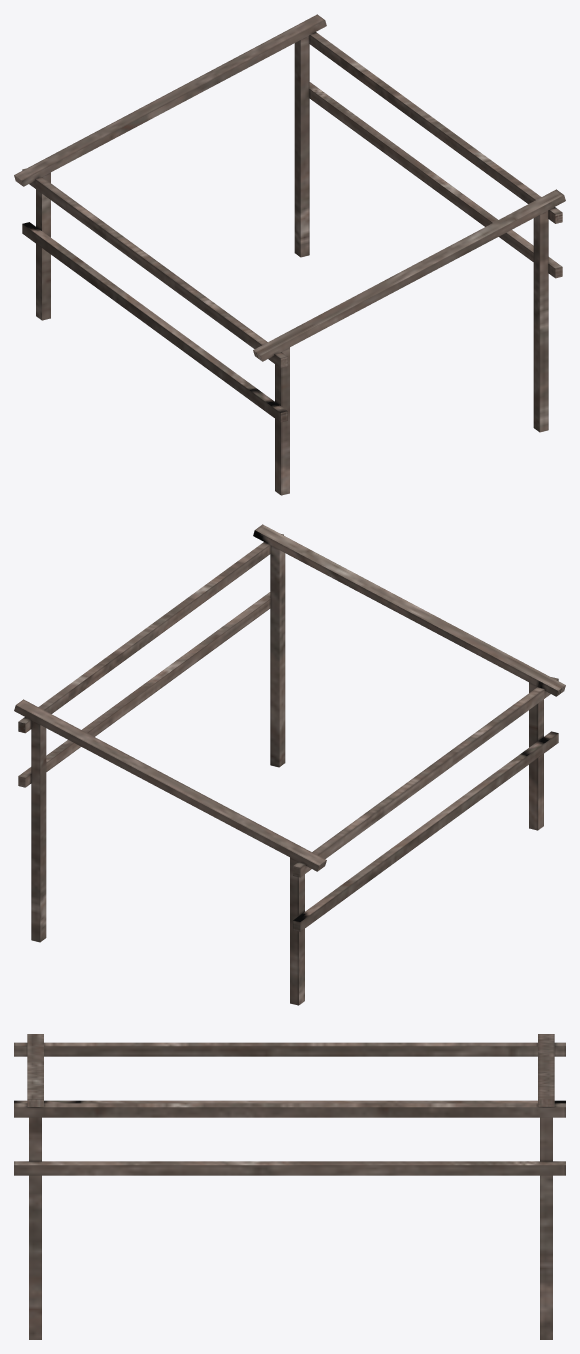
3 views of the same model, one above another, from view 1: azimuth 30°, elevation 25°; view 2: azimuth 150°, elevation 25°; view 3: azimuth 270°, elevation 25° (orthographic). The views are drawn at different scales.
Parts seen in each view (by area): view 1: Object_46; view 2: Object_46; view 3: Object_46.
Boxes of the visible parts, box(x1,y1,x2,y2) form: Object_46: box(14, 14, 565, 495); Object_46: box(14, 524, 565, 1005); Object_46: box(14, 1034, 565, 1339).
Bounding box in the file's own units: 2.48 × 1.81 × 3.64.
Materials: 1 (1 with a texture image).
